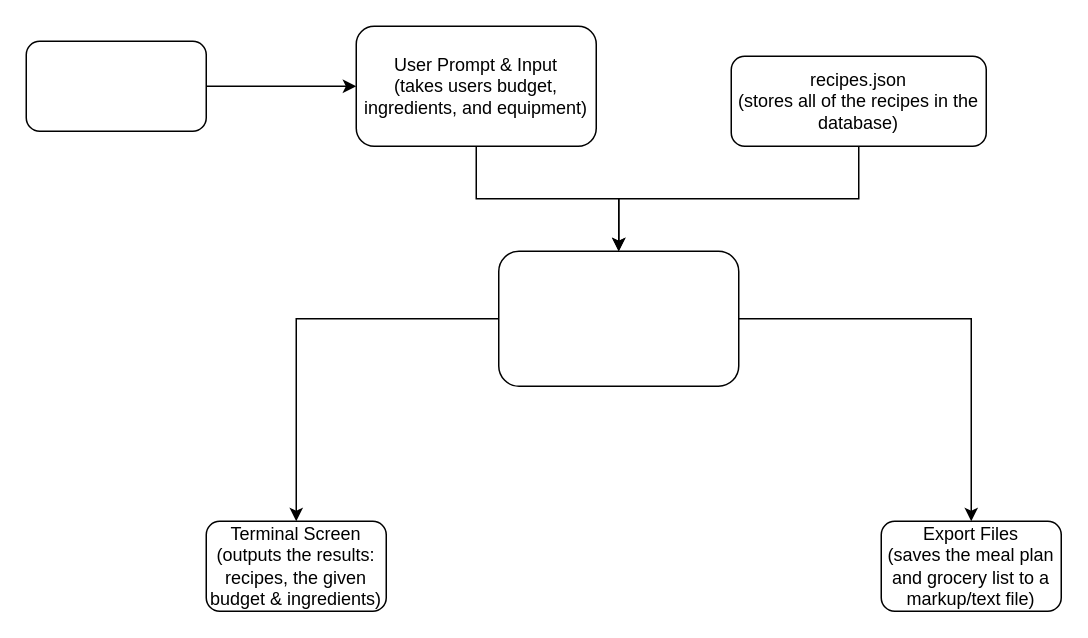
This 1088x638 diagram has some shape labels left out. The shapes that lost their labels are listed below. From the top down, each one's centre as x and y in pixels, then its label:
At point 115,85: "Main Command Line Interface: ex) Main.java".
At point 618,318: "Meal Planner (takes user input, outputs targeted recipes & ingredients need)".
